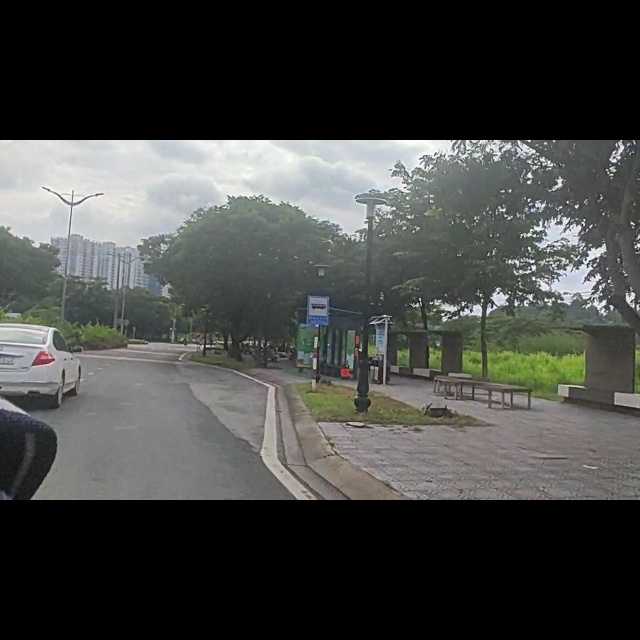bien_hieu_lenh: (306, 270, 334, 329)
